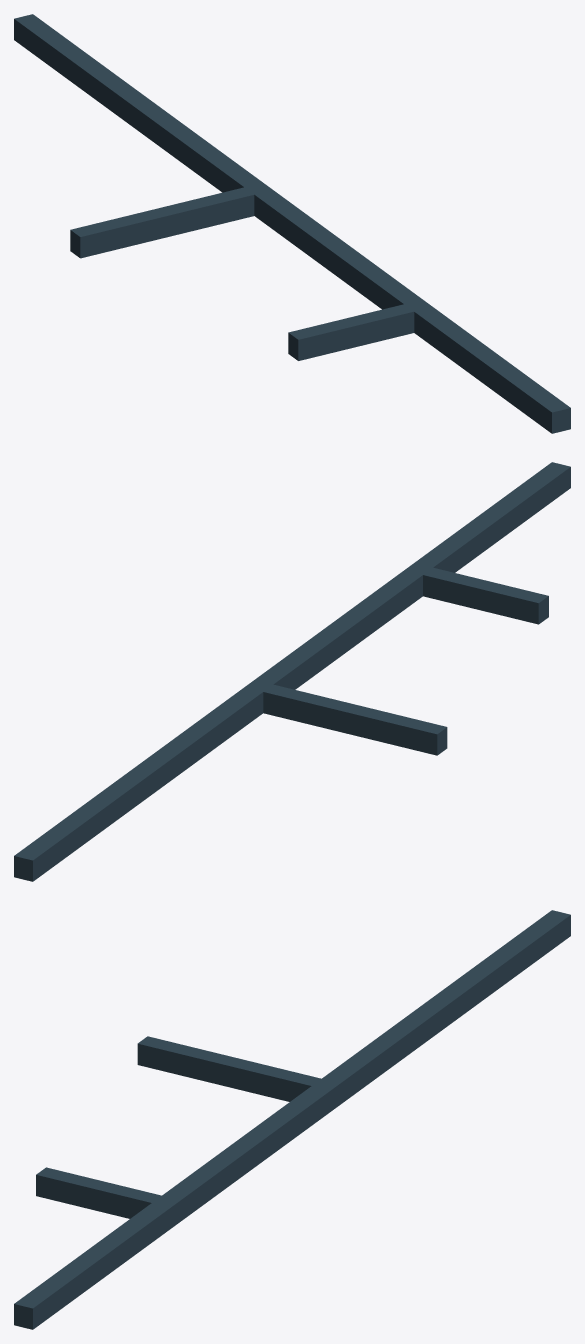
File: v02-transit-world-03-03-06.glb
3 views of the same model, one above another, from view 1: azimuth 30°, elevation 25°; view 2: azimuth 150°, elevation 25°; view 3: azimuth 330°, elevation 25° (orthographic).
Visible parts, largest first — view 1: v02-transit-world-03-03-06; view 2: v02-transit-world-03-03-06; view 3: v02-transit-world-03-03-06.
Boxes of the visible parts, <box> form: v02-transit-world-03-03-06: <box>14,14,570,433</box>; v02-transit-world-03-03-06: <box>14,462,570,881</box>; v02-transit-world-03-03-06: <box>14,910,570,1329</box>.
Size of the model in its own units: 13.25 by 1.4 by 63.99.
